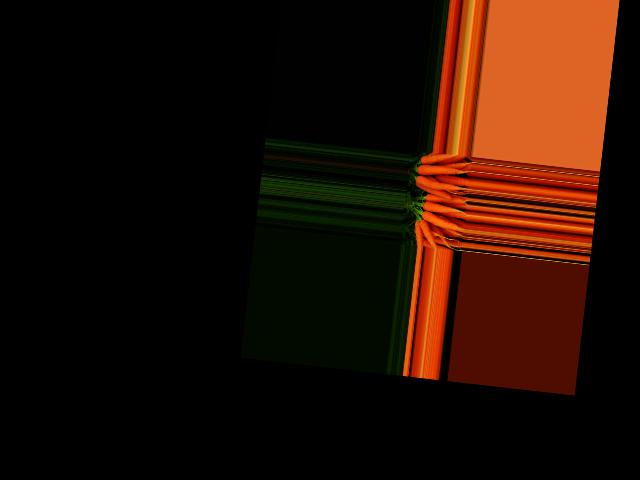carrot: (417, 160, 469, 181)
